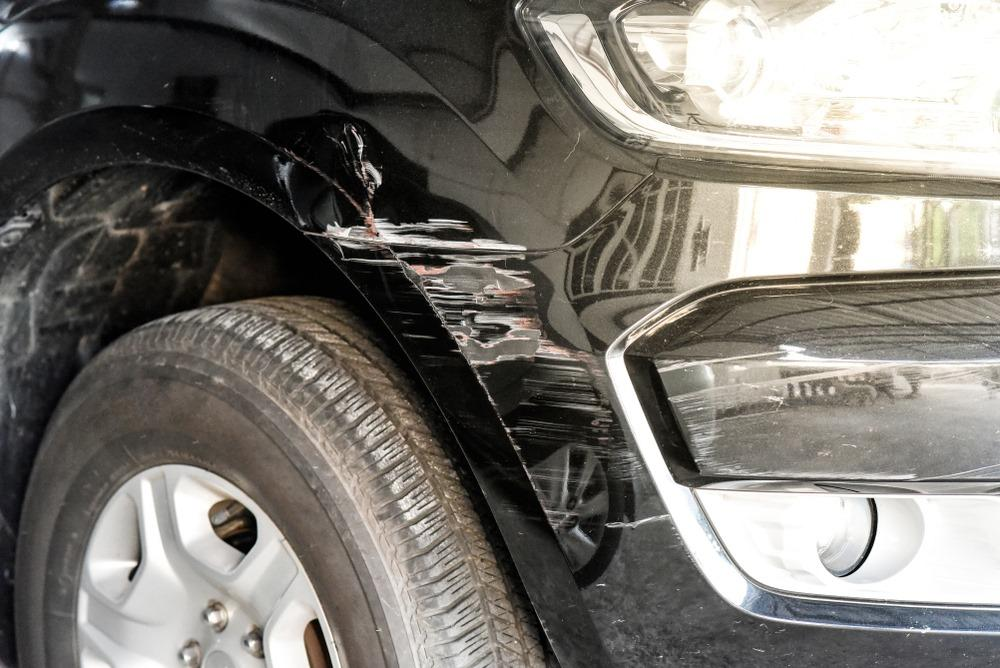scratch: (313, 125, 666, 556), (659, 345, 928, 480)
